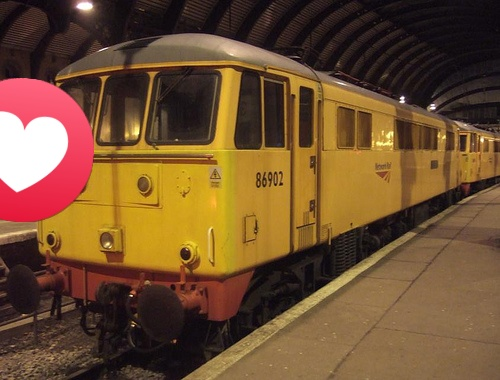love: (0, 78, 94, 222)
